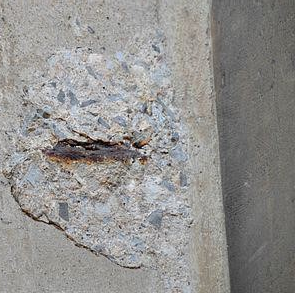Exposed reinforcement: (41, 140, 145, 164)
Spalling: (1, 35, 195, 293)
